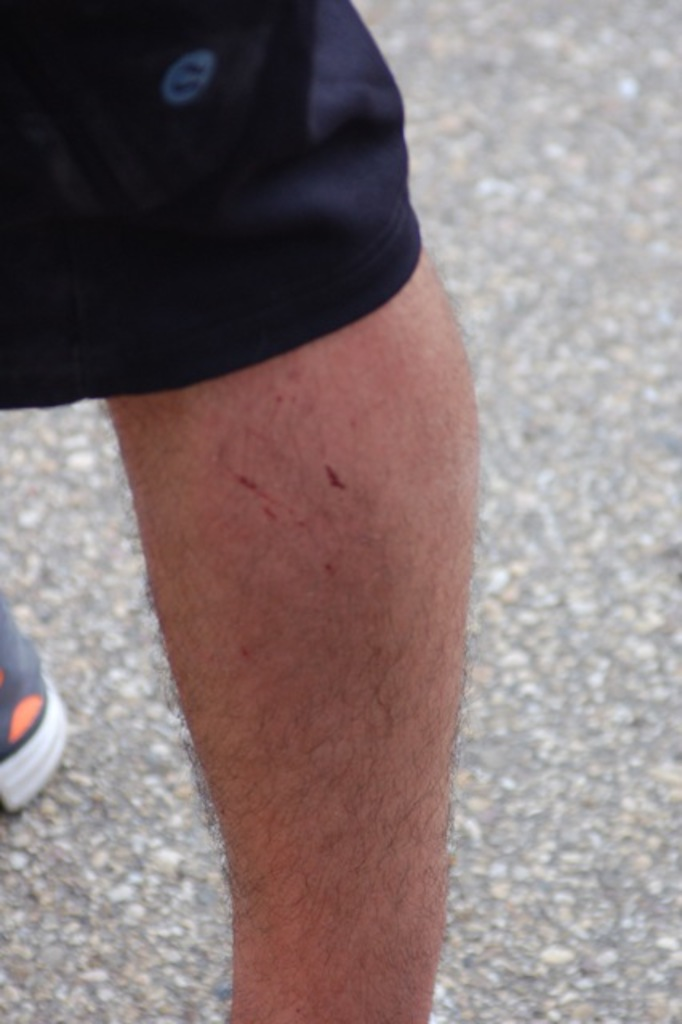Person: (0, 0, 486, 1024)
